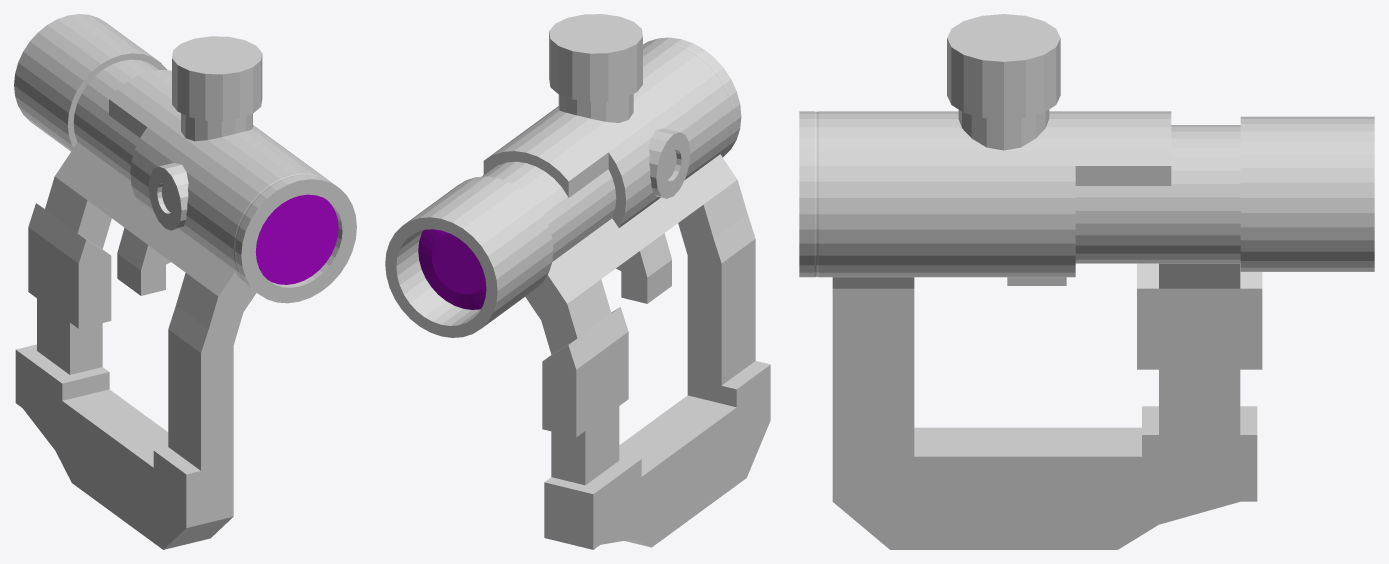
Rendered from 2x_scope_ru.fbx.
3 views of the same model, side by side, from view 1: azimuth 30°, elevation 25°; view 2: azimuth 150°, elevation 25°; view 3: azimuth 270°, elevation 25° (orthographic). The views are drawn at different scales.
Parts seen in each view (by area): view 1: Cylinder; view 2: Cylinder; view 3: Cylinder.
Boxes of the visible parts, box(x1,y1,x2,y2) form: Cylinder: box(14, 14, 356, 549); Cylinder: box(385, 14, 770, 549); Cylinder: box(799, 14, 1374, 549).
Bounding box in the file's own units: 3.33 × 8.47 × 8.84.
